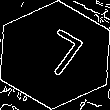L_SW: (25, 25, 85, 85)
